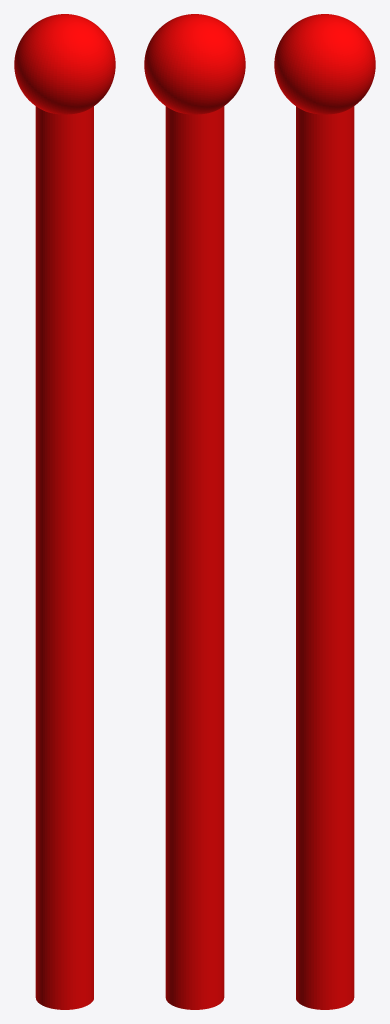
The model's file is marker.glb.
3 renders of one model, left to right at view 1: azimuth 90°, elevation 25°; view 2: azimuth 210°, elevation 25°; view 3: azimuth 270°, elevation 25°, orthographic.
Visible parts, largest first — view 1: Cylinder; view 2: Cylinder; view 3: Cylinder.
Boxes of the visible parts, x1,y1,x2,y2 form: Cylinder: (14, 14, 115, 1009); Cylinder: (144, 14, 245, 1009); Cylinder: (274, 14, 375, 1009).
Size of the model in its own units: 0.2776 by 2.96 by 0.2776.
